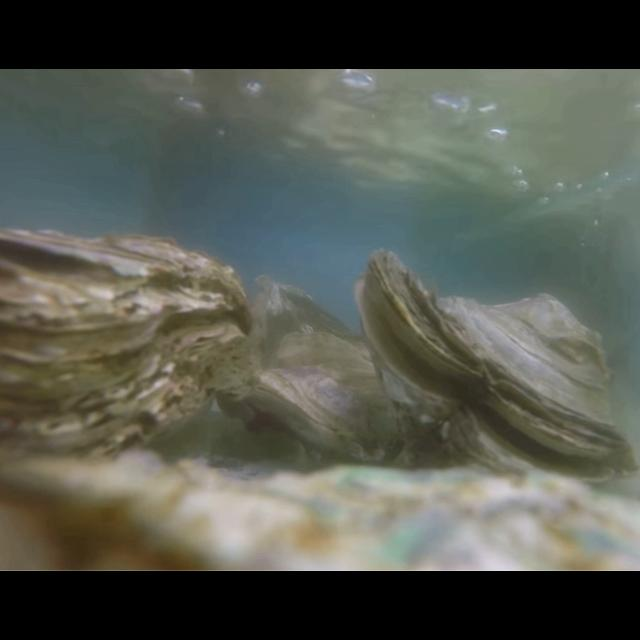Oyster-Closed: (0, 451, 640, 572), (0, 228, 254, 486), (257, 333, 413, 469), (254, 270, 370, 360)
Oyster-Open: (354, 251, 640, 494)
